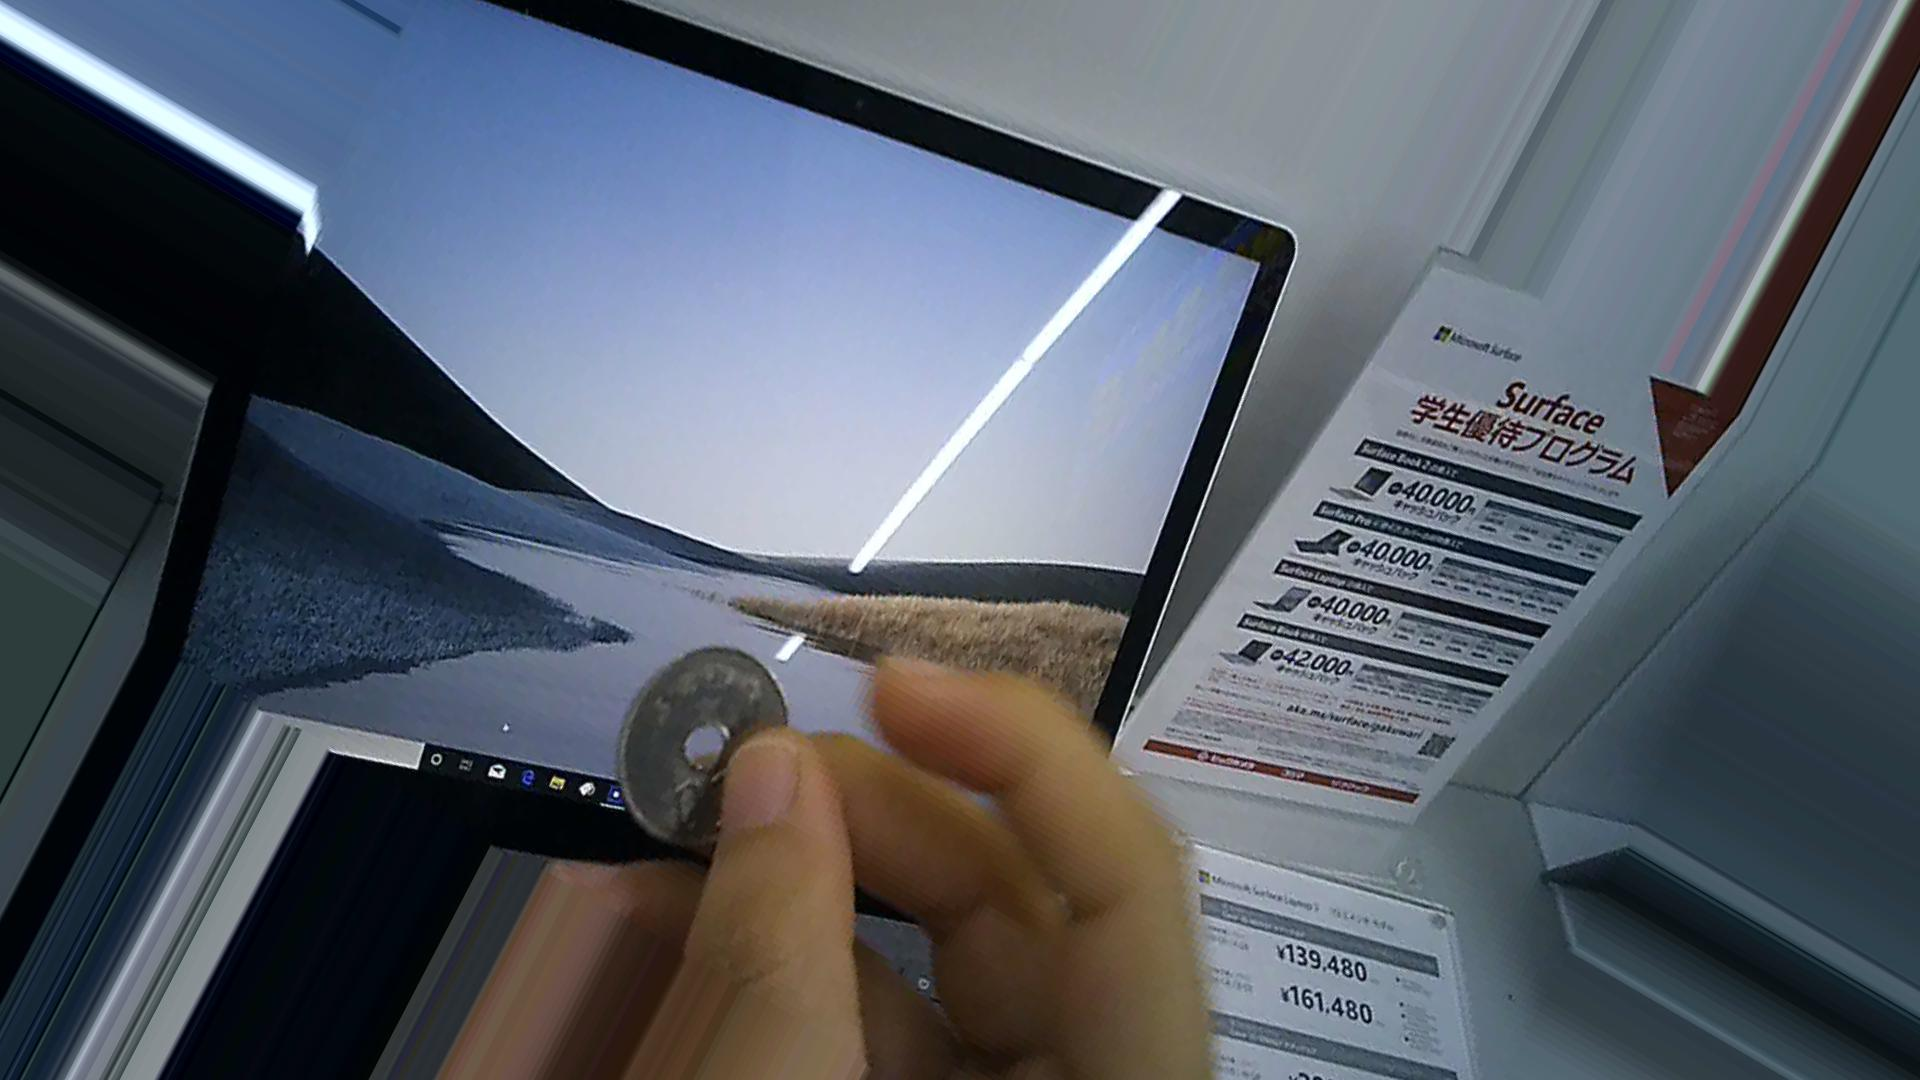50 Yen: (620, 647, 783, 851)
